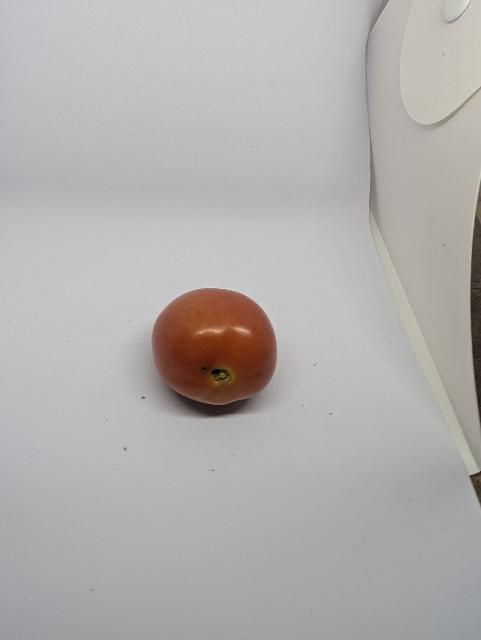red: (148, 283, 286, 413)
